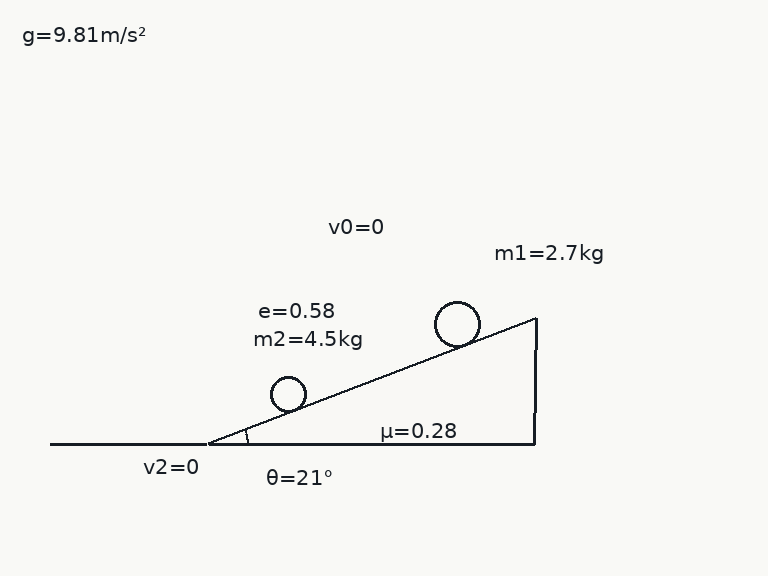ball: (432, 299, 482, 349), (268, 374, 308, 414)
ramp: (206, 317, 536, 446)
